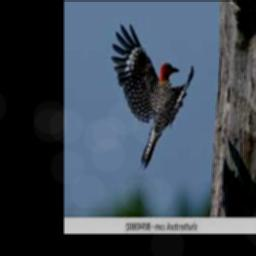Woodpecker: (111, 24, 194, 169)
